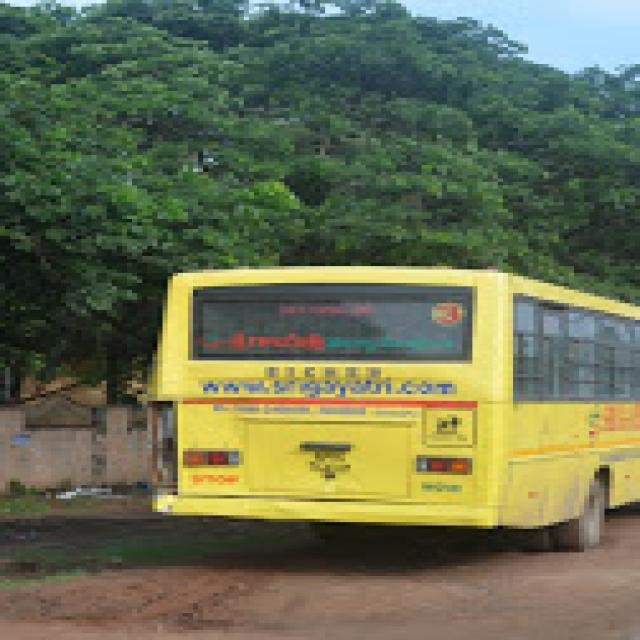bus_back: (132, 257, 637, 568)
